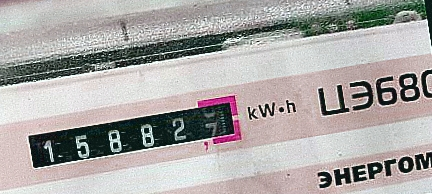1: (39, 134, 57, 164)
2: (168, 113, 188, 143)
5: (71, 130, 93, 159)
7: (201, 118, 220, 137)
8: (103, 125, 123, 155), (137, 119, 156, 149)
screen: (11, 84, 253, 182)
